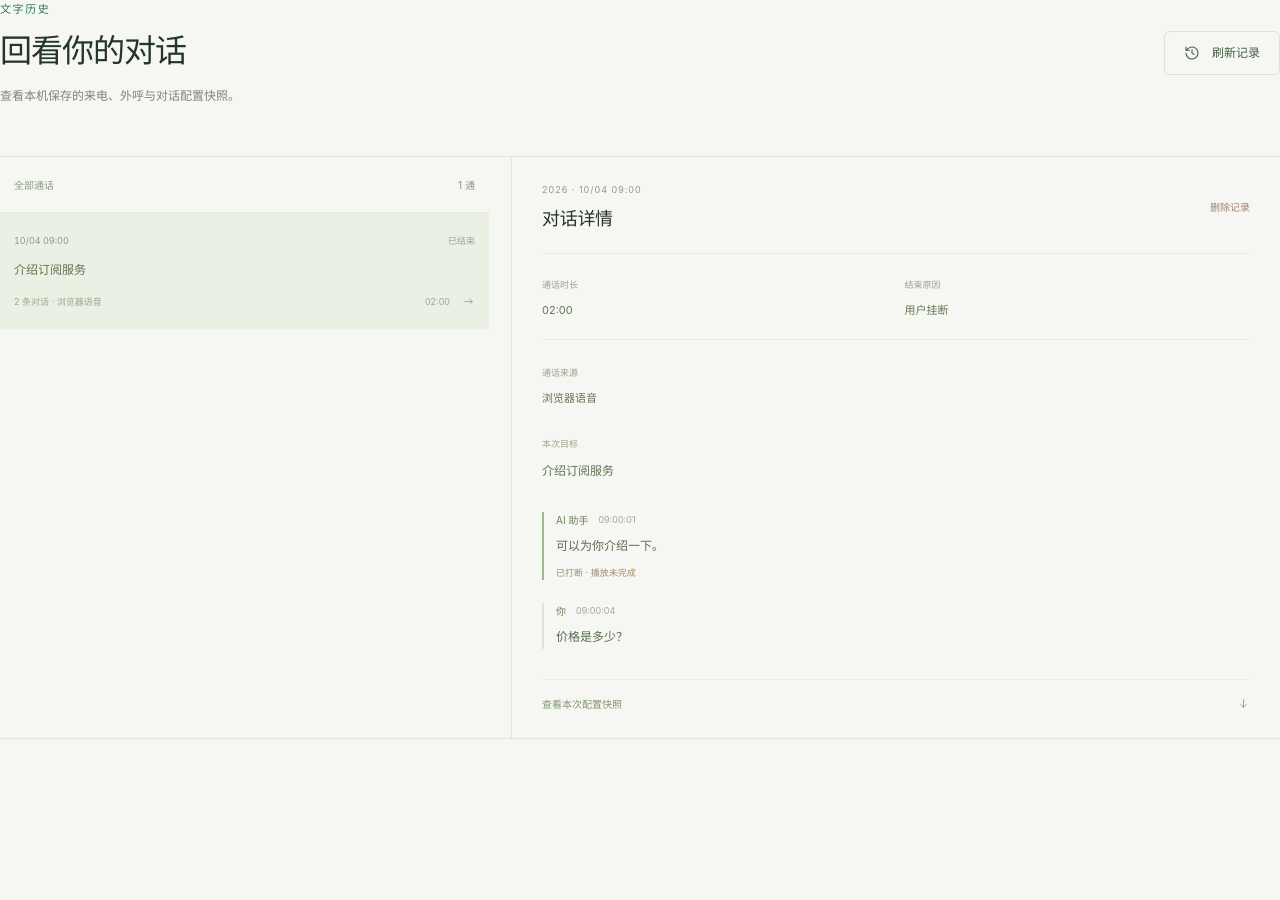
Test: 本机文字历史 › 确认后删除目标记录并刷新成空列表
The image size is (1280, 900).
Expected: the text "价格是多少？" is shown, [556, 629, 628, 644]
Click the button "删除记录" at (1230, 207), box [1210, 194, 1250, 219]
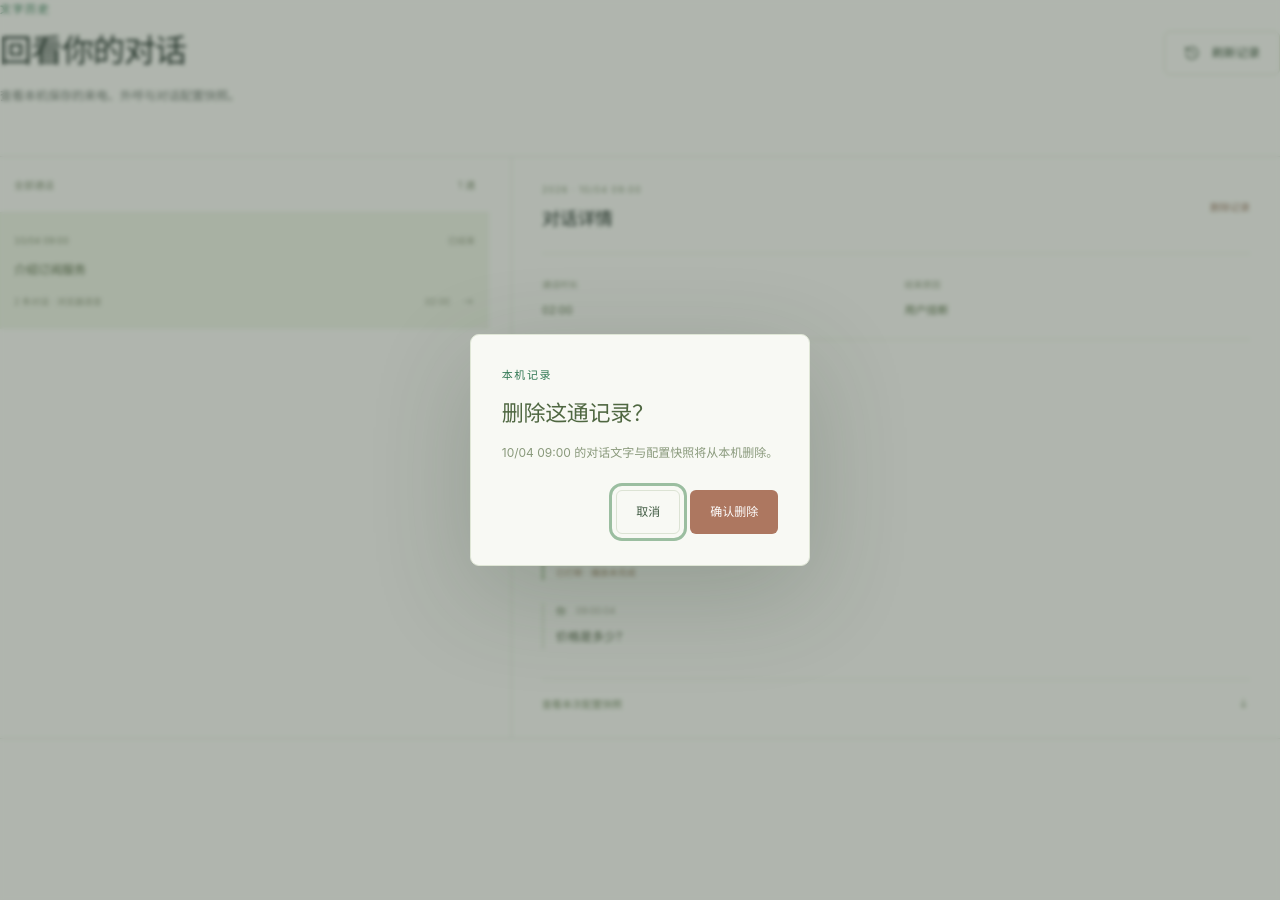
Click the button "确认删除" at (734, 512), box [690, 490, 778, 534]
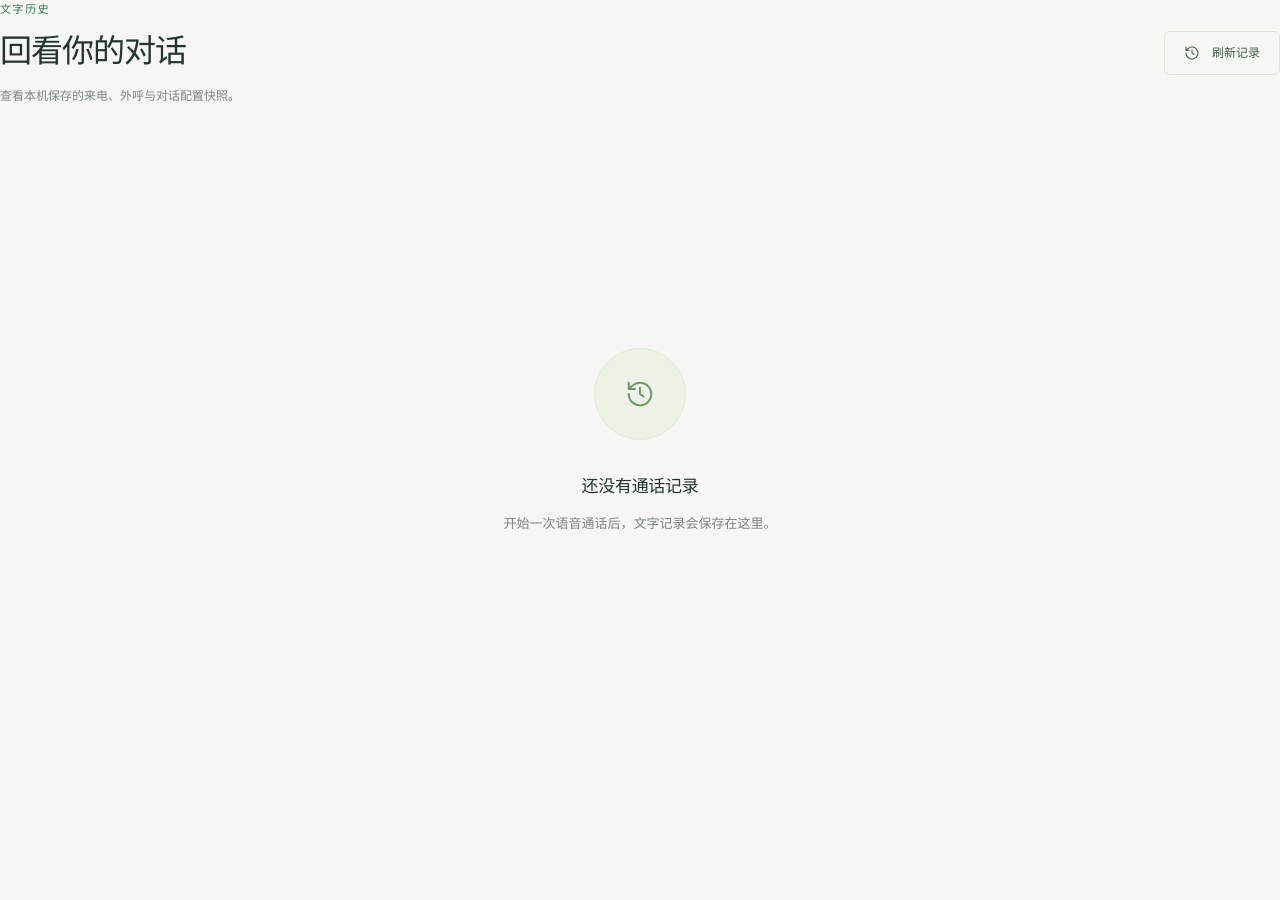
Expected: the heading "还没有通话记录" is shown, [582, 472, 698, 497]
Expected: the text "价格是多少？" is gone
